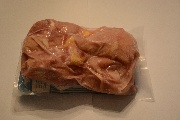chicken: (13, 18, 155, 104)
